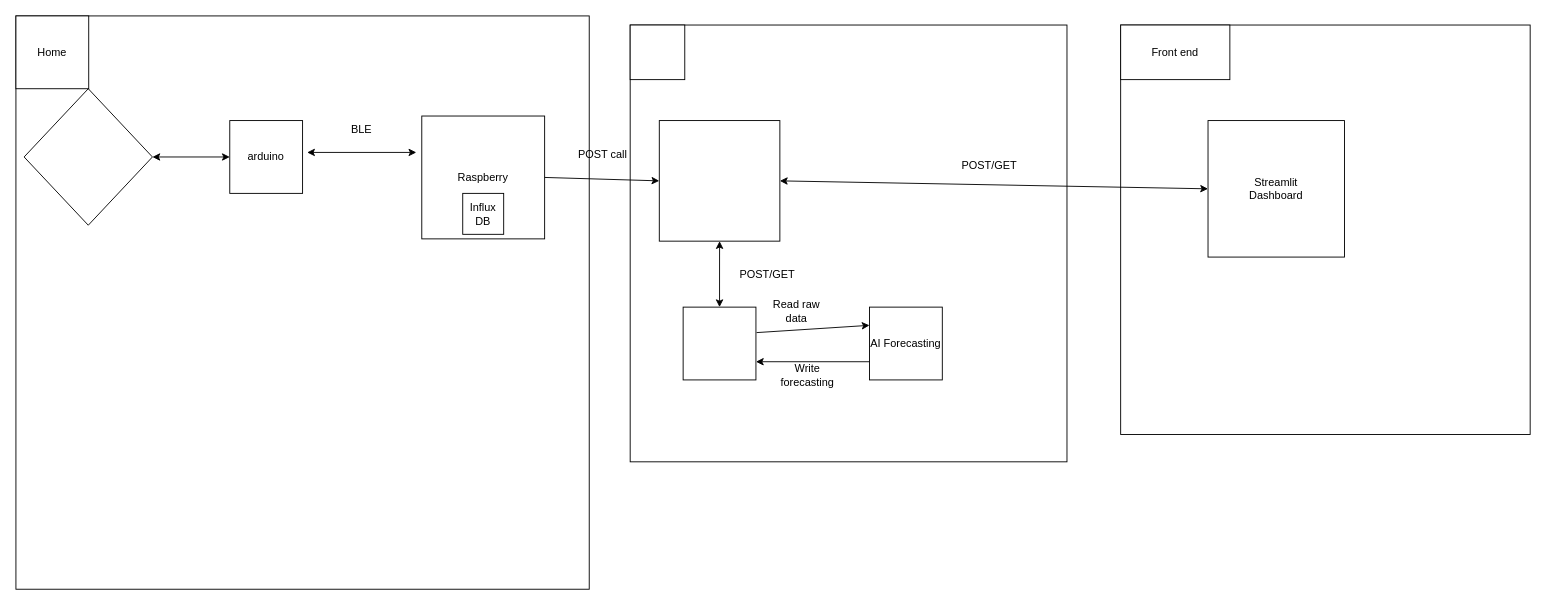
The diagram is 1546 pixels wide and 605 high, and some of its shapes have lost their labels. Here are the shapes that lost their labels. From the top down, the centre of each, then its label:
At (657,52): "BACKEND".
At (87,156): "Sensors: -temperature -humidity -pressure -CO2 -air quality".
At (719,180): "Fast API".
At (719,343): "DB".
